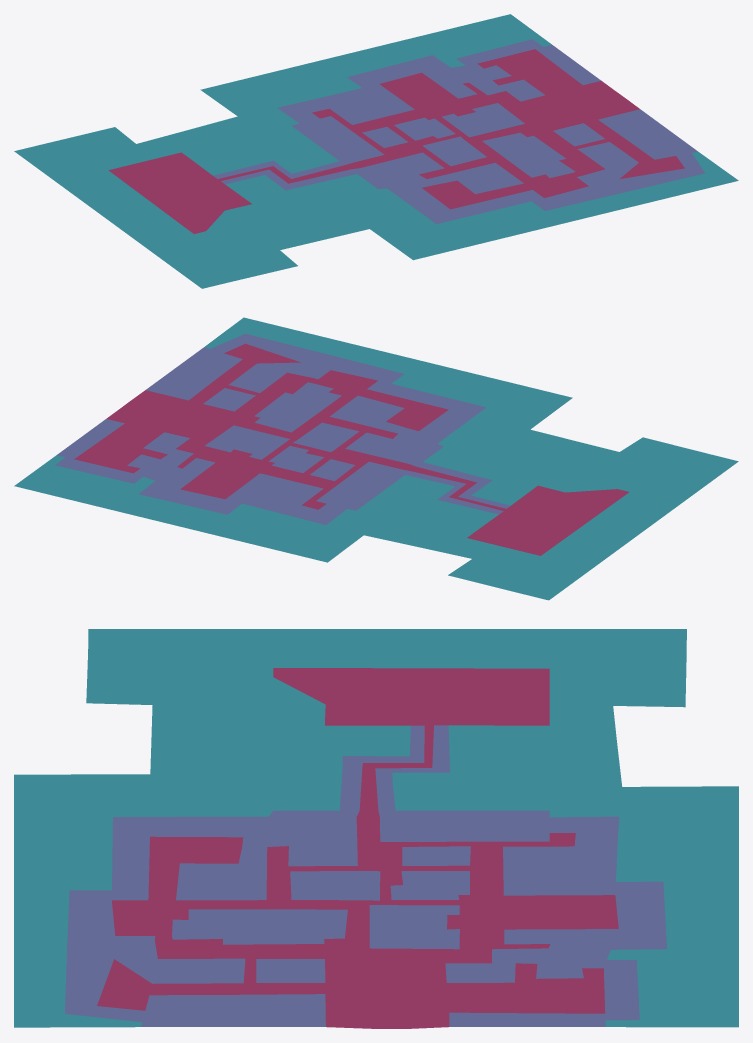
Rendered from Advertising-Hell-Xen-Terrain.fbx.
3 views of the same model, one above another, from view 1: azimuth 30°, elevation 25°; view 2: azimuth 150°, elevation 25°; view 3: azimuth 270°, elevation 25° (orthographic). The views are drawn at different scales.
Parts seen in each view (by area): view 1: Advertising-Hell-Xen-Terrain; view 2: Advertising-Hell-Xen-Terrain; view 3: Advertising-Hell-Xen-Terrain.
Part boxes in pixels (box(x1,y1,x2,y2)): Advertising-Hell-Xen-Terrain: box(14, 14, 738, 288); Advertising-Hell-Xen-Terrain: box(14, 317, 738, 600); Advertising-Hell-Xen-Terrain: box(14, 629, 738, 1028).
Bounding box in the file's own units: 30794 × 41.97 × 23657.
